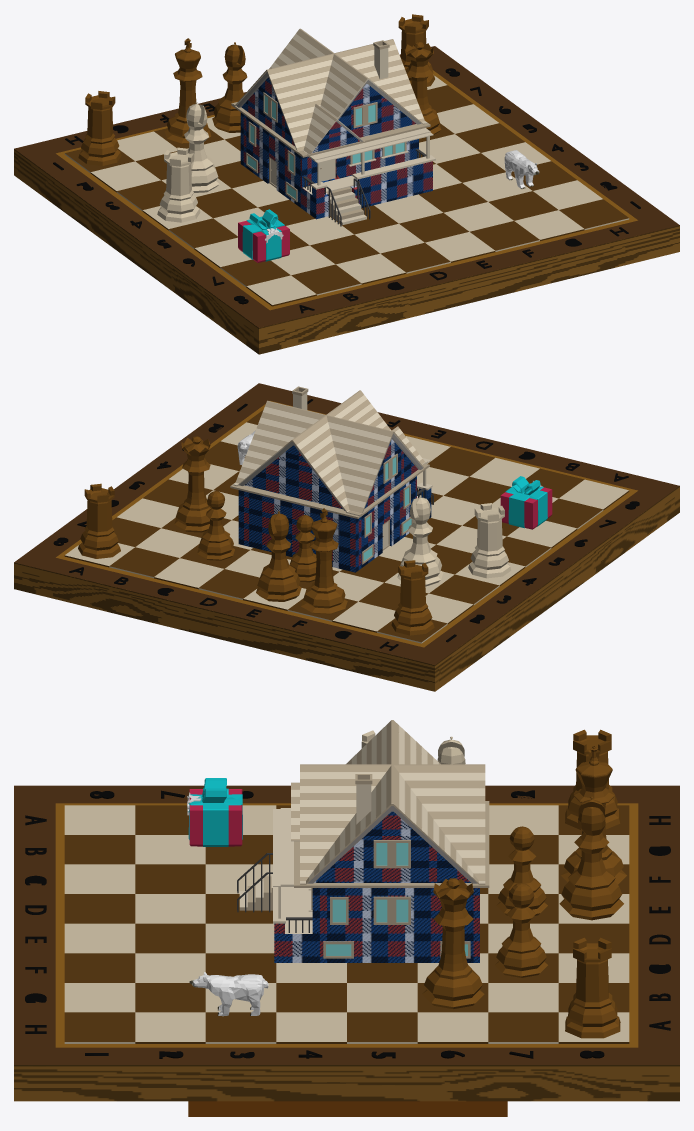
3 views of the same model, one above another, from view 1: azimuth 30°, elevation 25°; view 2: azimuth 150°, elevation 25°; view 3: azimuth 270°, elevation 25° (orthographic). The views are drawn at different scales.
Parts seen in each view (by area): view 1: Cube.002, Cube.171, OBJRANDOM_GIANT_PRESENT, ANIMAL_OSO_POLAR; view 2: Cube.002, Cube.171, OBJRANDOM_GIANT_PRESENT; view 3: Cube.002, Cube.171, UNDERGROUND_ART_PIECE_VAN_GOGH, OBJRANDOM_GIANT_PRESENT, ANIMAL_OSO_POLAR.
Boxes of the visible parts, box(x1,y1,x2,y2) form: Cube.002: box(14, 14, 679, 354); Cube.171: box(231, 28, 435, 226); OBJRANDOM_GIANT_PRESENT: box(238, 209, 289, 262); ANIMAL_OSO_POLAR: box(504, 150, 539, 188); Cube.002: box(14, 383, 679, 691); Cube.171: box(230, 386, 433, 572); OBJRANDOM_GIANT_PRESENT: box(500, 476, 552, 529); Cube.002: box(14, 729, 679, 1101); Cube.171: box(237, 720, 489, 962); UNDERGROUND_ART_PIECE_VAN_GOGH: box(188, 1101, 507, 1116); OBJRANDOM_GIANT_PRESENT: box(187, 778, 242, 846); ANIMAL_OSO_POLAR: box(189, 972, 268, 1016).
Size of the model in its own units: 3981 by 1610 by 4012.
24 materials, 4 textured.
